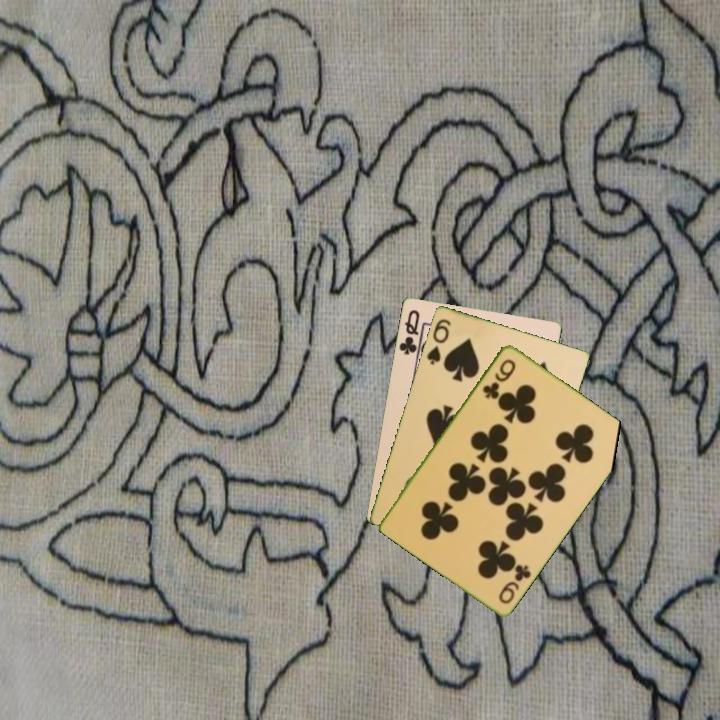6s: (423, 315, 454, 367)
9c: (479, 355, 519, 401), (495, 560, 534, 607)
Qc: (395, 306, 425, 361)
